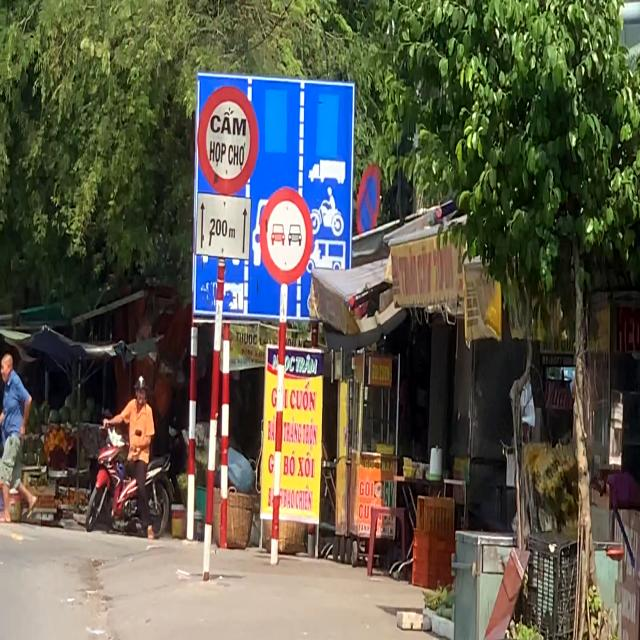P.125: (260, 178, 314, 283)
